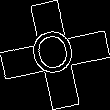O_S: (29, 25, 81, 85)
